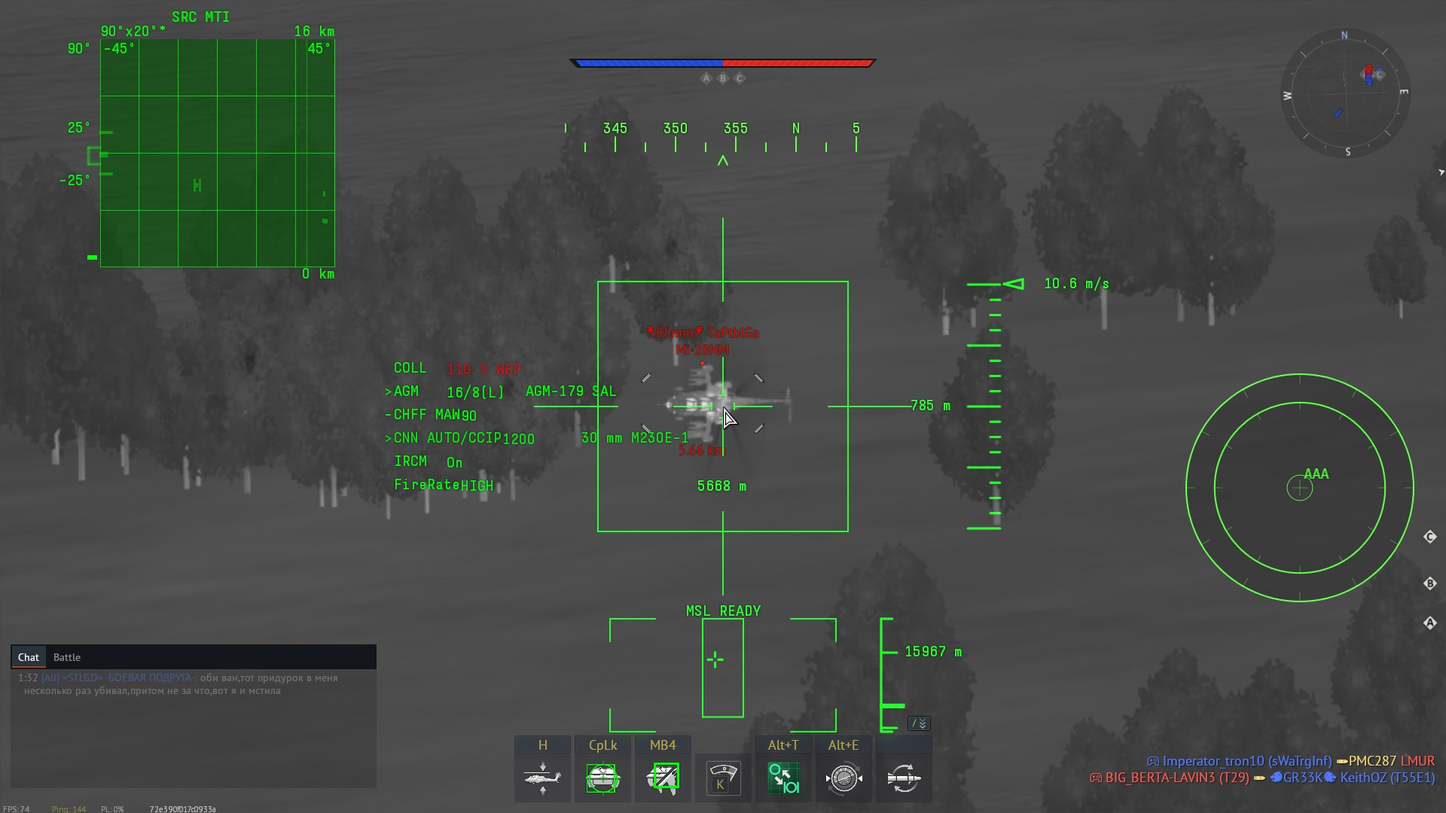mi28: (657, 364, 790, 442)
